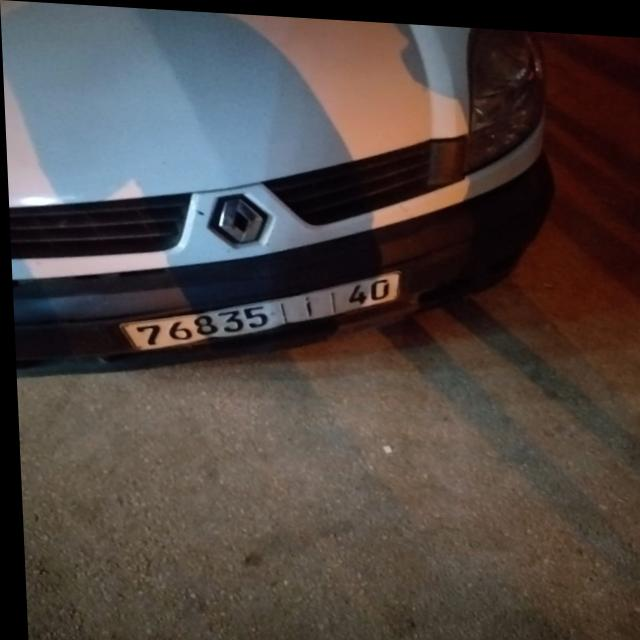License-Plate: (118, 267, 397, 348)
